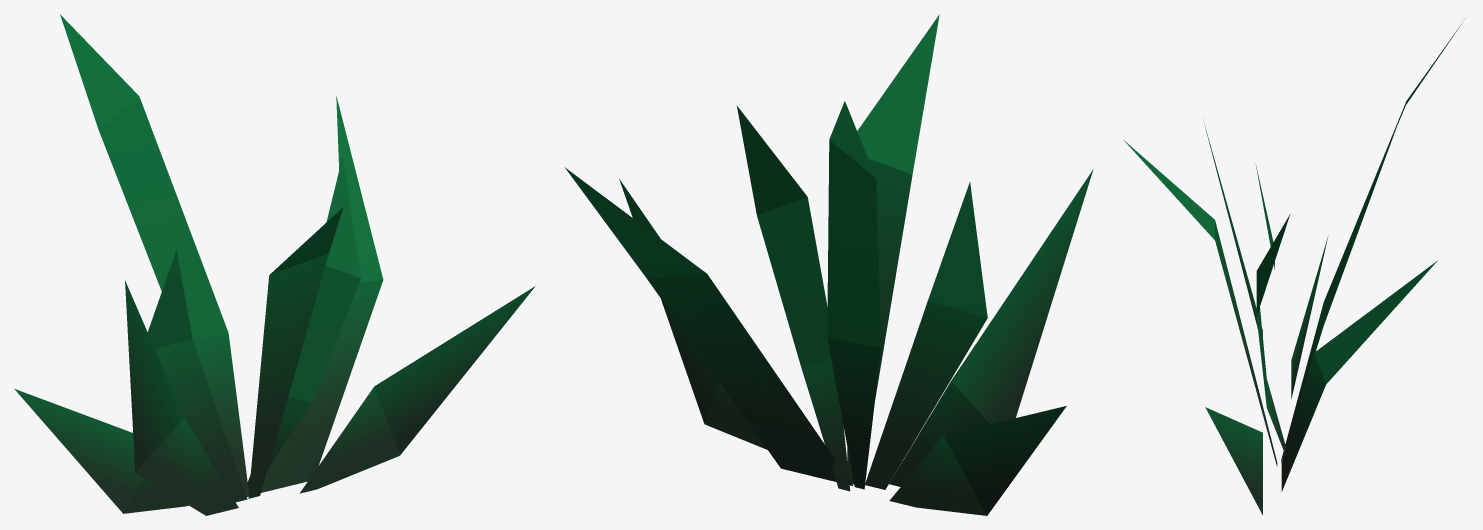
File: Grass_01.fbx
The picture shows the model from 3 angles, left to right: view 1: azimuth 30°, elevation 25°; view 2: azimuth 150°, elevation 25°; view 3: azimuth 270°, elevation 25°; orthographic projection. The views are drawn at different scales.
Visible parts, largest first — view 1: grass-tall.012; view 2: grass-tall.012; view 3: grass-tall.012.
Boxes of the visible parts, left/top/right/bottom form: grass-tall.012: left=14, top=14, right=535, bottom=515; grass-tall.012: left=565, top=14, right=1093, bottom=515; grass-tall.012: left=1124, top=19, right=1464, bottom=514.
Size of the model in its own units: 125 by 113 by 87.07.
